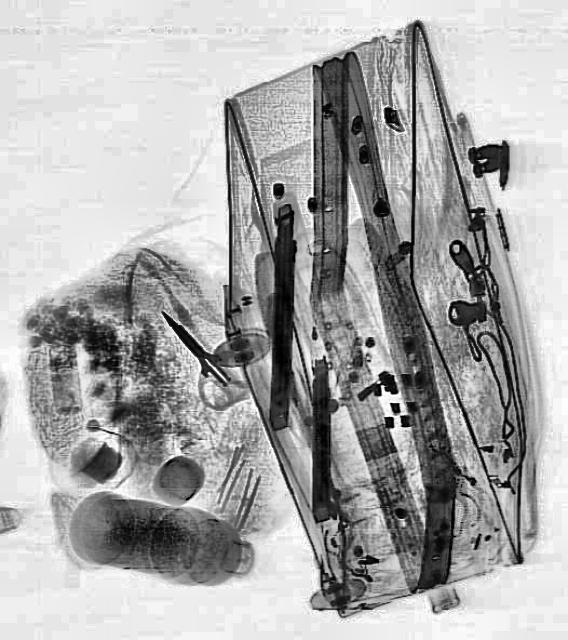Knife: (152, 302, 236, 392)
